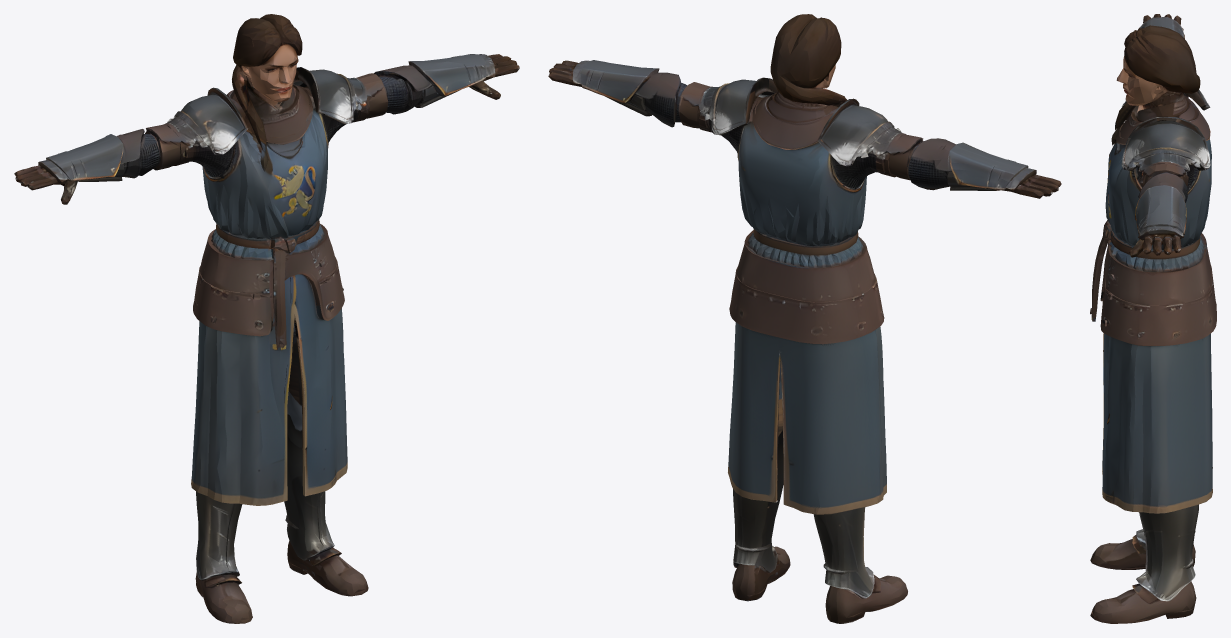
The model's file is Sigewynn.glb.
3 renders of one model, left to right at view 1: azimuth 30°, elevation 25°; view 2: azimuth 150°, elevation 25°; view 3: azimuth 270°, elevation 25°, orthographic. The views are drawn at different scales.
Visible parts, largest first — view 1: Object_3, Object_2; view 2: Object_3, Object_2; view 3: Object_3, Object_2.
Boxes of the visible parts, x1=… form: Object_3: x1=14, y1=14, x2=518, y2=623; Object_2: x1=14, y1=20, x2=519, y2=623; Object_3: x1=549, y1=14, x2=1060, y2=623; Object_2: x1=548, y1=14, x2=1061, y2=617; Object_3: x1=1091, y1=14, x2=1216, y2=623; Object_2: x1=1090, y1=14, x2=1211, y2=619.
Bounding box in the file's own units: 1.66 × 1.83 × 0.3749.
Materials: 1 (1 with a texture image).
